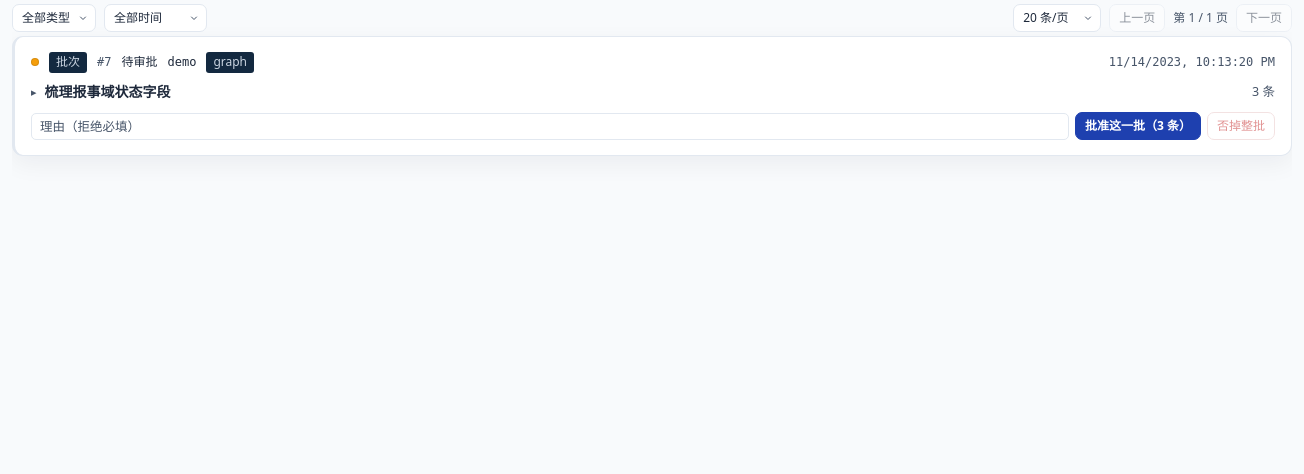
Test case: 点开才出条目
This screenshot has width=1304, height=474.
Click the button "▸ 梳理报事域状态字段 3 条".
click(108, 91)  # box x1=31 y1=81 x2=1275 y2=102
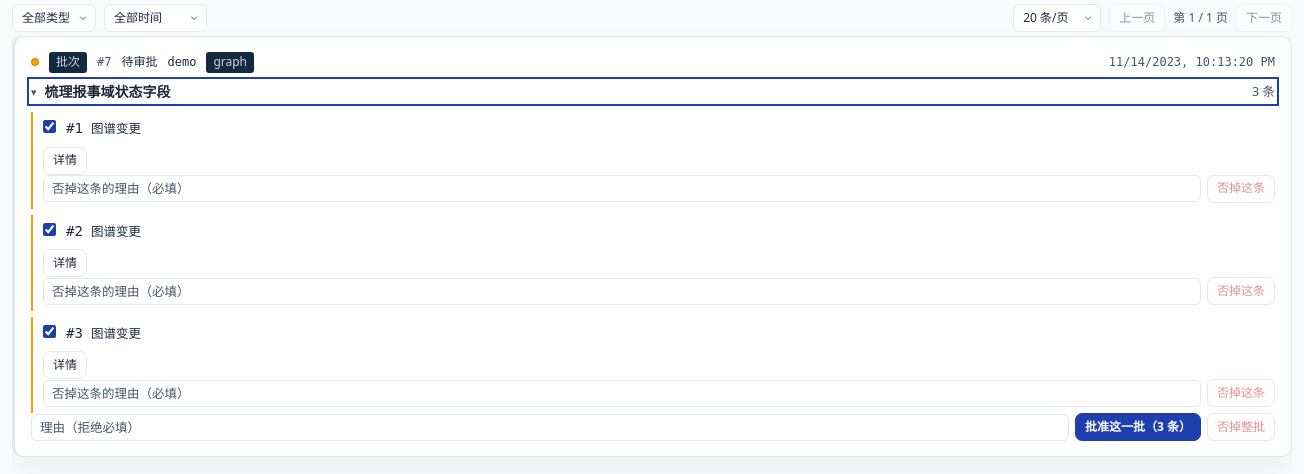
Expected: the checkbox named "批准第 1 条" is shown, x1=43 y1=120 x2=56 y2=133
Expected: the checkbox named "批准第 3 条" is shown, x1=43 y1=325 x2=56 y2=338
